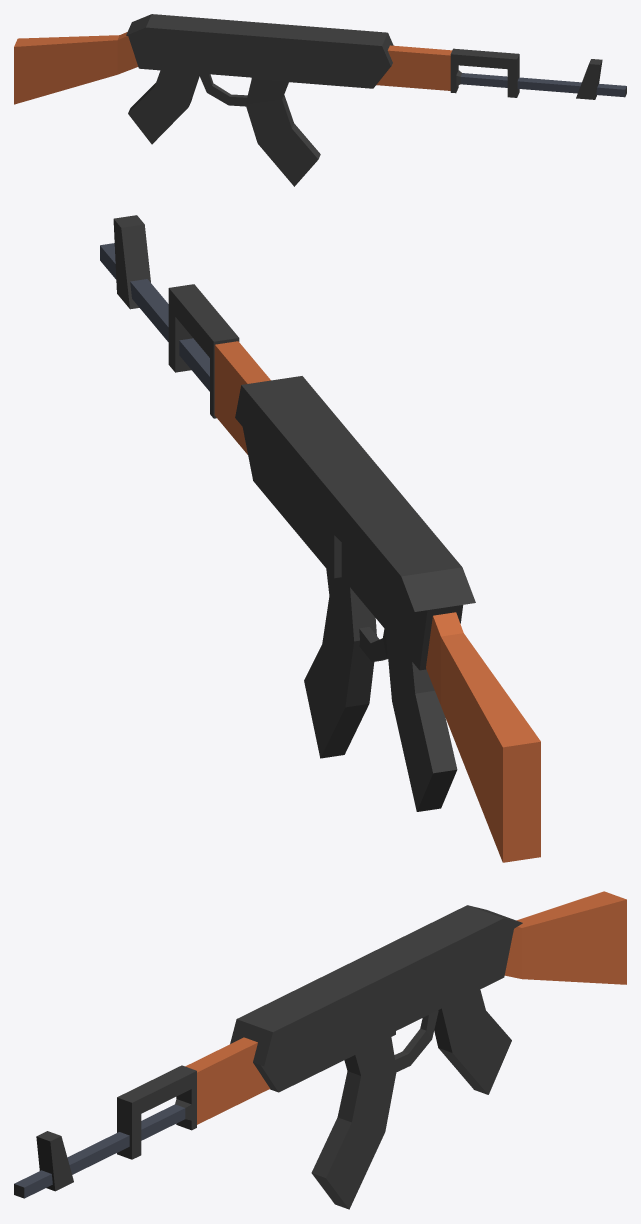
The picture shows the model from 3 angles, top to bottom: view 1: azimuth 30°, elevation 25°; view 2: azimuth 150°, elevation 25°; view 3: azimuth 270°, elevation 25°; orthographic projection. The views are drawn at different scales.
Visible parts, largest first — view 1: ak47; view 2: ak47; view 3: ak47.
Part boxes in pixels (left/top/right/bottom): ak47: left=14, top=14, right=626, bottom=186; ak47: left=100, top=215, right=540, bottom=862; ak47: left=14, top=891, right=626, bottom=1209.
Bounding box in the file's own units: 202 × 70.39 × 174.
